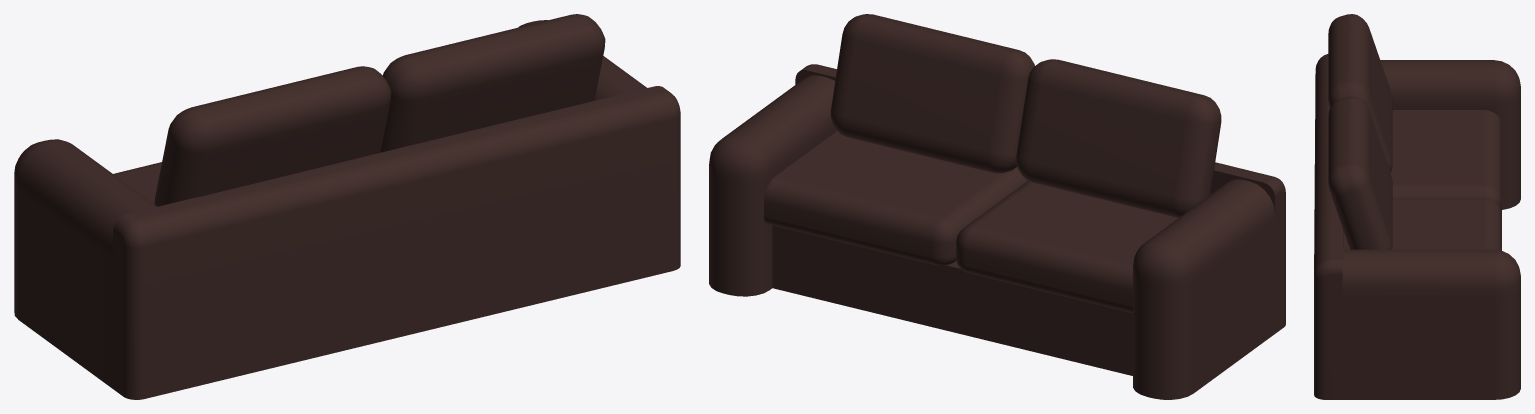
The model's file is Canape2_7.fbx.
The picture shows the model from 3 angles, left to right: view 1: azimuth 30°, elevation 25°; view 2: azimuth 150°, elevation 25°; view 3: azimuth 270°, elevation 25°; orthographic projection. The views are drawn at different scales.
Visible parts, largest first — view 1: pCube1068, pCube2538, pCube2535, pCube2534, pCube2533, pCube2523; view 2: pCube2538, pCube2535, pCube2534, pCube2539, pCube2522, pCube2523, pCube2533, pCube1068; view 3: pCube2533, pCube2523, pCube2538, pCube2534, pCube1068, pCube2522, pCube2535.
Boxes of the visible parts, x1,y1,x2,y2 form: pCube1068: (113, 86, 680, 399); pCube2538: (14, 139, 157, 388); pCube2535: (154, 66, 391, 206); pCube2534: (380, 14, 605, 152); pCube2533: (518, 20, 646, 100); pCube2523: (113, 162, 161, 203); pCube2538: (1133, 179, 1274, 399); pCube2535: (1016, 59, 1221, 217); pCube2534: (830, 14, 1034, 173); pCube2539: (772, 225, 1132, 375); pCube2522: (764, 131, 1027, 265); pCube2523: (956, 180, 1178, 313); pCube2533: (709, 75, 836, 296); pCube1068: (795, 64, 1285, 333); pCube2533: (1342, 249, 1520, 399); pCube2523: (1390, 110, 1501, 213); pCube2538: (1380, 60, 1520, 209); pCube2534: (1328, 96, 1392, 249); pCube1068: (1314, 54, 1343, 399); pCube2522: (1343, 198, 1501, 250); pCube2535: (1328, 14, 1392, 172).
Size of the model in its own units: 167 by 73.88 by 68.22.
